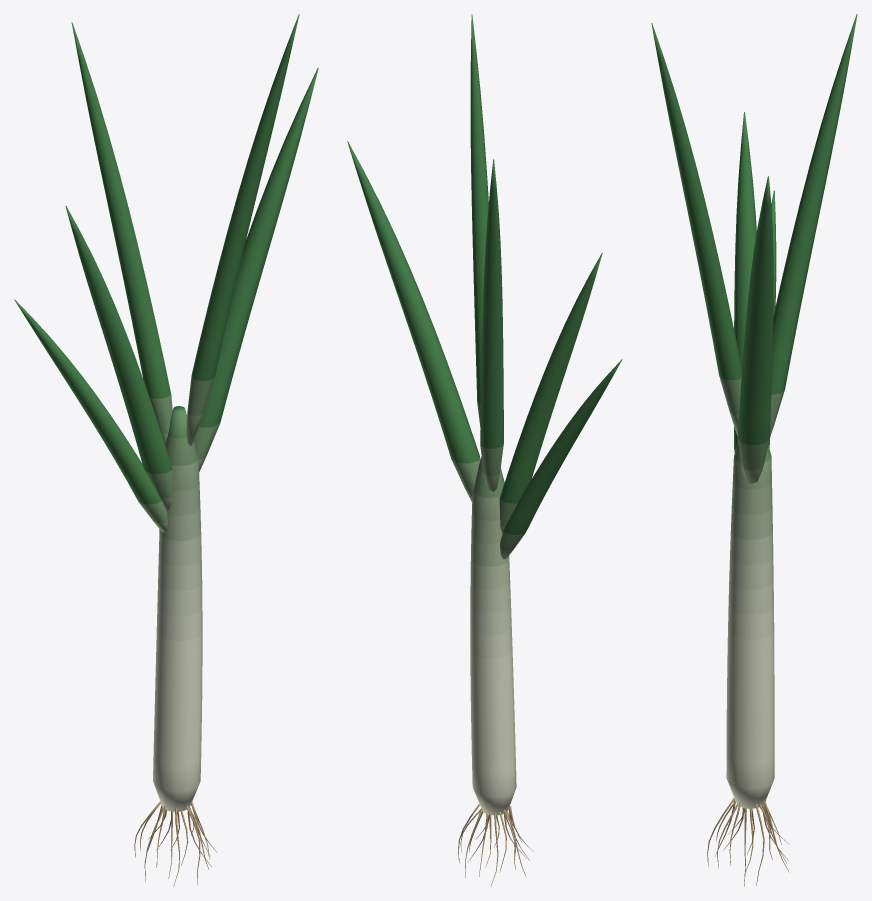
The picture shows the model from 3 angles, left to right: view 1: azimuth 30°, elevation 25°; view 2: azimuth 150°, elevation 25°; view 3: azimuth 270°, elevation 25°; orthographic projection. The views are drawn at different scales.
Parts seen in each view (by area): view 1: Long white sheathed stalk and basal plate, Attached hollow tubular leaf 03, Attached hollow tubular leaf 04, Attached hollow tubular leaf 02, Attached hollow tubular leaf 01, Attached hollow tubular leaf 05; view 2: Long white sheathed stalk and basal plate, Attached hollow tubular leaf 02, Attached hollow tubular leaf 03, Attached hollow tubular leaf 01, Attached hollow tubular leaf 04, Attached hollow tubular leaf 05; view 3: Long white sheathed stalk and basal plate, Attached hollow tubular leaf 02, Attached hollow tubular leaf 03, Attached hollow tubular leaf 04, Attached hollow tubular leaf 01, Attached hollow tubular leaf 05.
Boxes of the visible parts, box(x1,y1,x2,y2) form: Long white sheathed stalk and basal plate: box(153, 406, 202, 811); Attached hollow tubular leaf 03: box(71, 22, 172, 444); Attached hollow tubular leaf 04: box(186, 14, 299, 445); Attached hollow tubular leaf 02: box(194, 67, 318, 472); Attached hollow tubular leaf 01: box(65, 206, 173, 512); Attached hollow tubular leaf 05: box(14, 299, 167, 532); Long white sheathed stalk and basal plate: box(470, 456, 516, 815); Attached hollow tubular leaf 02: box(347, 141, 480, 502); Attached hollow tubular leaf 03: box(480, 159, 503, 491); Attached hollow tubular leaf 01: box(499, 252, 602, 533); Attached hollow tubular leaf 04: box(470, 14, 488, 428); Attached hollow tubular leaf 05: box(500, 359, 622, 559); Long white sheathed stalk and basal plate: box(726, 442, 774, 808); Attached hollow tubular leaf 02: box(737, 176, 773, 483); Attached hollow tubular leaf 03: box(770, 14, 857, 436); Attached hollow tubular leaf 04: box(651, 23, 741, 436); Attached hollow tubular leaf 01: box(734, 112, 756, 452); Attached hollow tubular leaf 05: box(768, 190, 776, 447).
Bounding box in the file's own units: 0.2476 × 0.6879 × 0.1454.
